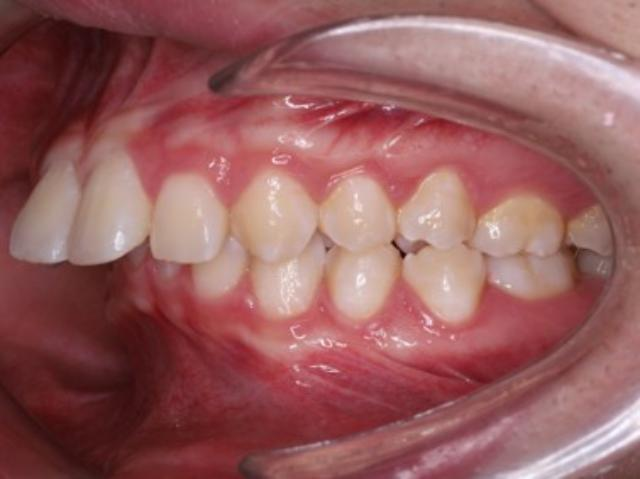canine class II 3/4: (228, 170, 400, 330)
molar class II 3/4: (472, 182, 580, 323)
